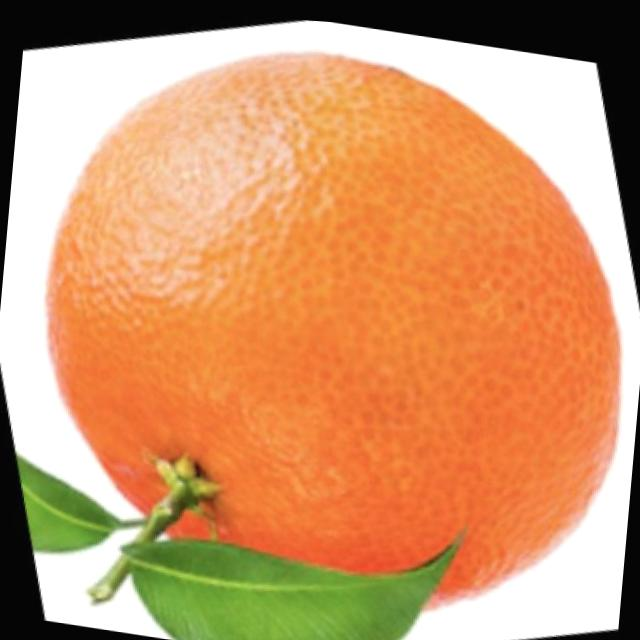Orange: (21, 9, 640, 636)
